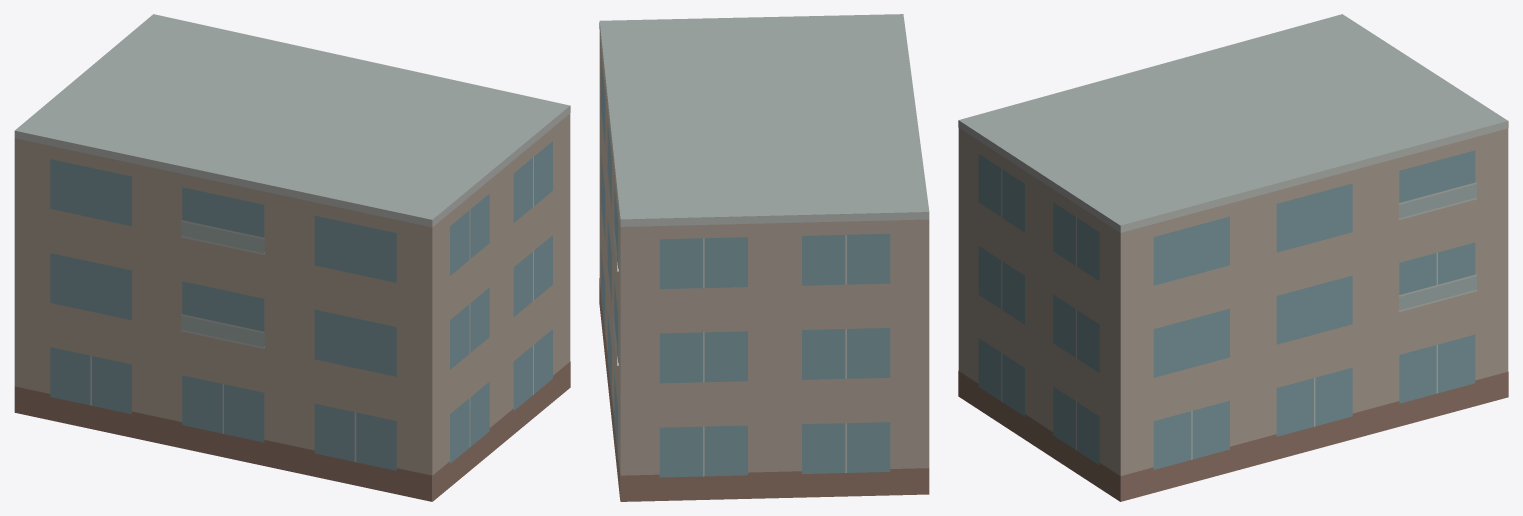
File: survey-upis-32733218.glb
3 renders of one model, left to right at view 1: azimuth 30°, elevation 25°; view 2: azimuth 150°, elevation 25°; view 3: azimuth 270°, elevation 25°, orthographic. The views are drawn at different scales.
Parts seen in each view (by area): view 1: survey-upis-32733218.tmp; view 2: survey-upis-32733218.tmp; view 3: survey-upis-32733218.tmp.
Part boxes in pixels (box(x1,y1,x2,y2)): survey-upis-32733218.tmp: box(14, 14, 570, 501); survey-upis-32733218.tmp: box(599, 14, 929, 501); survey-upis-32733218.tmp: box(958, 14, 1508, 501).
Bounding box in the file's own units: 15.04 × 9.15 × 16.52.
